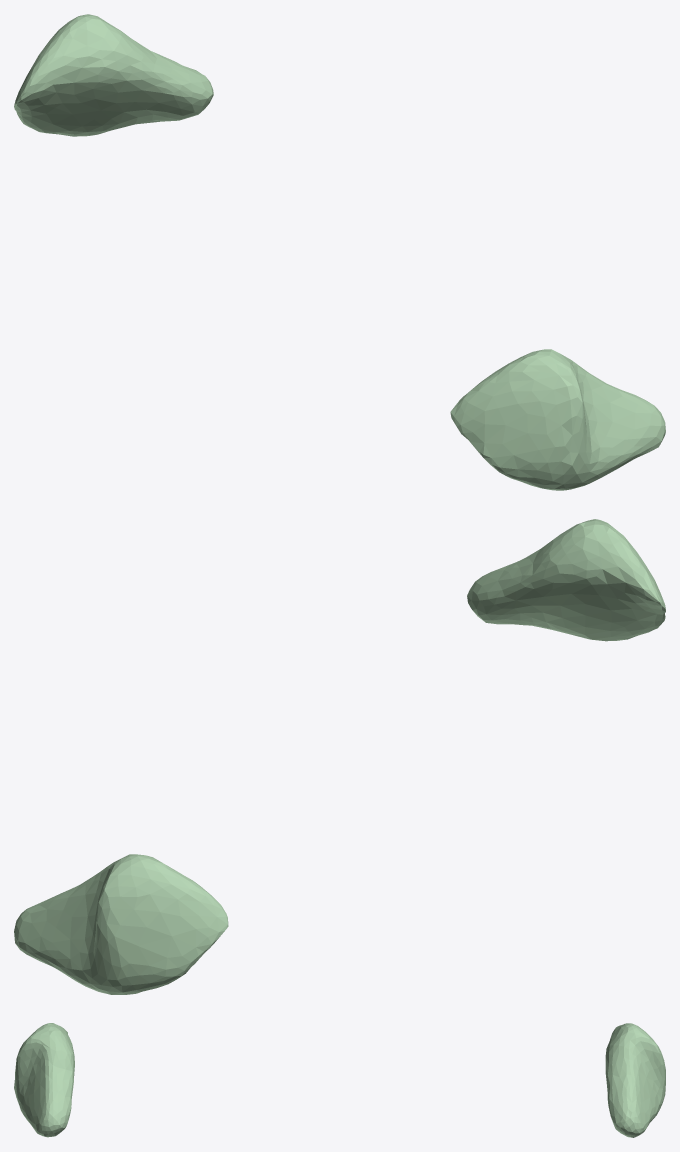
The picture shows the model from 3 angles, top to bottom: view 1: azimuth 30°, elevation 25°; view 2: azimuth 150°, elevation 25°; view 3: azimuth 270°, elevation 25°; orthographic projection. The views are drawn at different scales.
Visible parts, largest first — view 1: 303.obj; view 2: 303.obj; view 3: 303.obj.
Part boxes in pixels (left/top/right/bottom): 303.obj: left=14, top=14, right=665, bottom=490; 303.obj: left=14, top=519, right=665, bottom=994; 303.obj: left=14, top=1023, right=665, bottom=1137.
Bounding box in the file's own units: 1608 × 991 × 7052.
